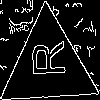R: (23, 39, 66, 79)
